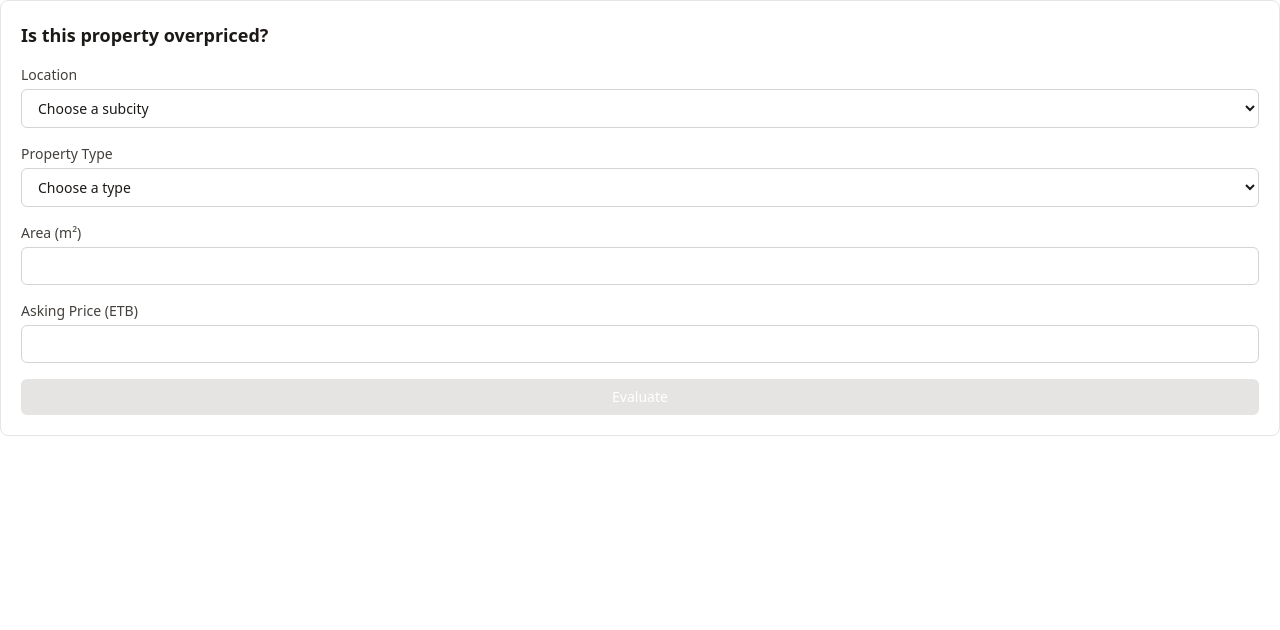
Scenario: OverpricedEvaluatorWidget › renders the UNDERPRICED state
Select "Bole" in the dropdown labelled "Location": (640,108) [21,89,1259,128]
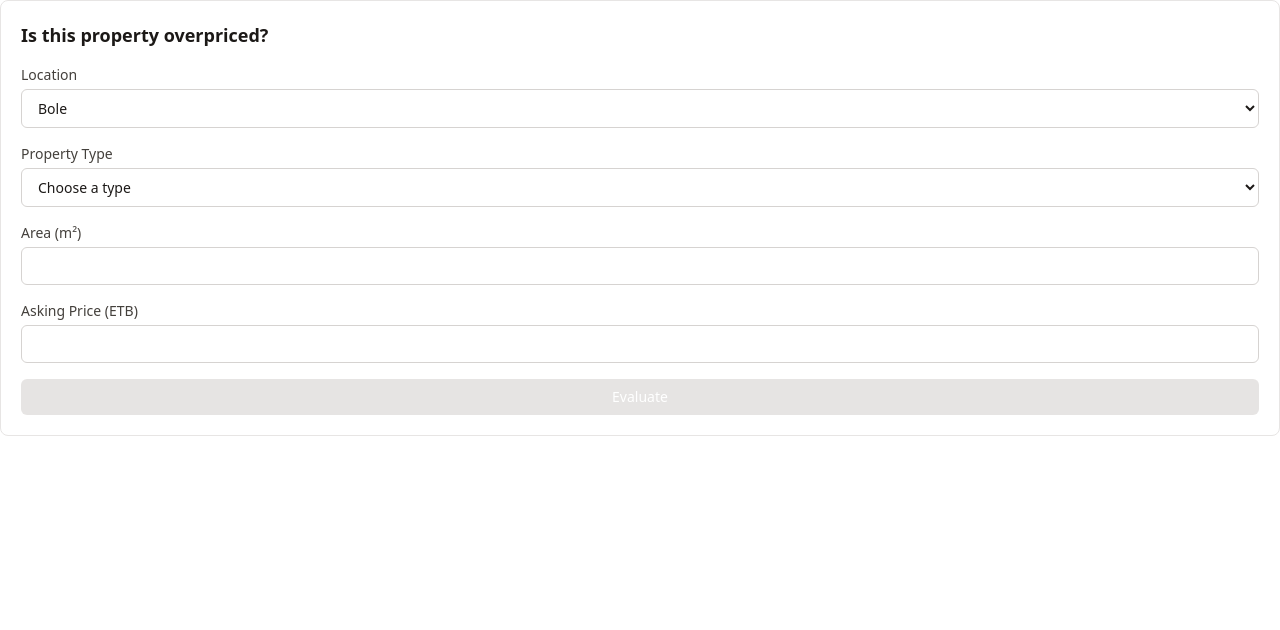
Select "Apartment" in the dropdown labelled "Property Type": (640,188) [21,168,1259,207]
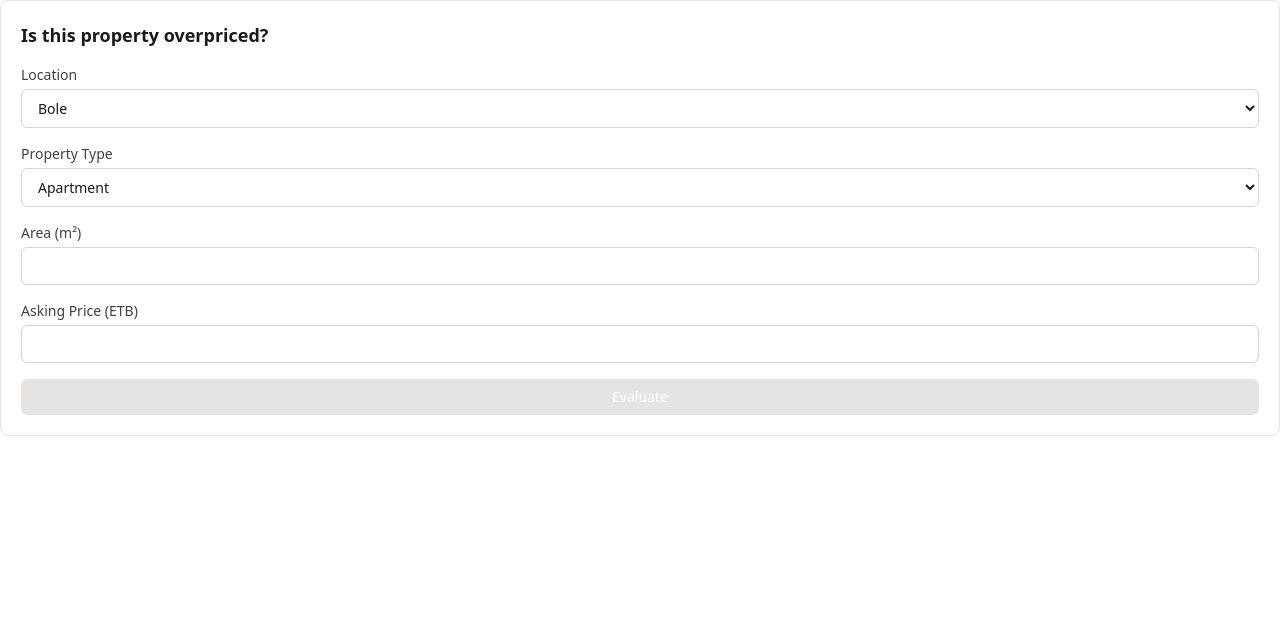
In the number field labelled "Area (m²)": (640,266) [21,247,1259,285], type "100"
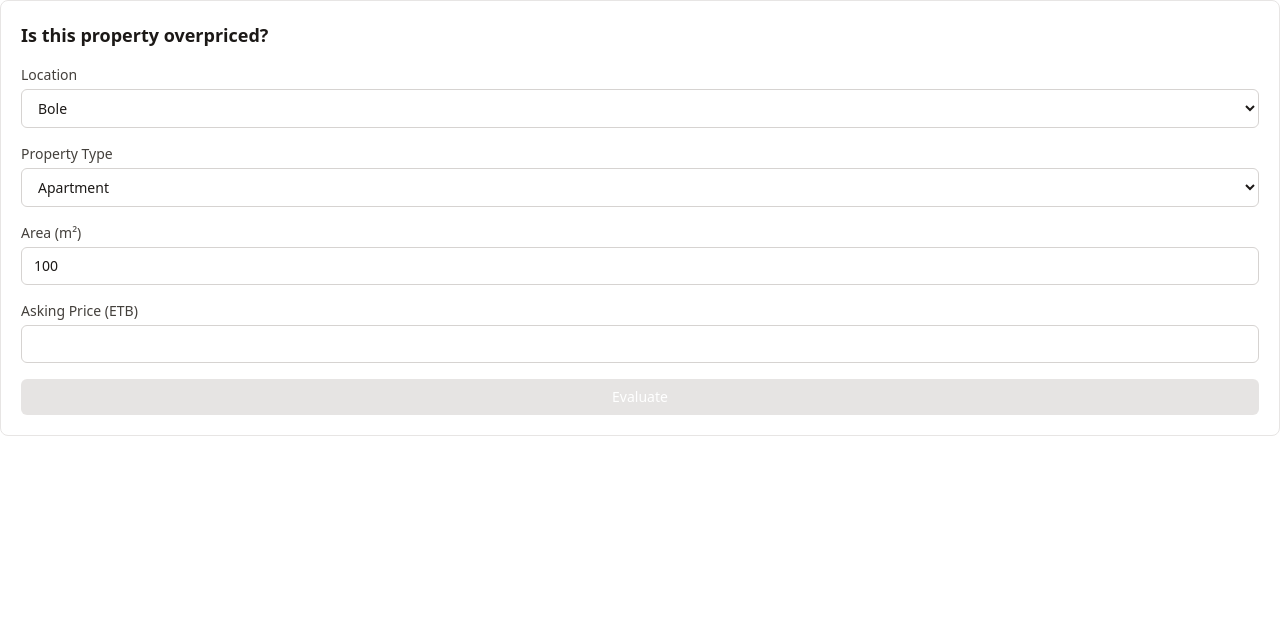
In the number field labelled "Asking Price (ETB)": (640,344) [21,325,1259,363], type "5000000"
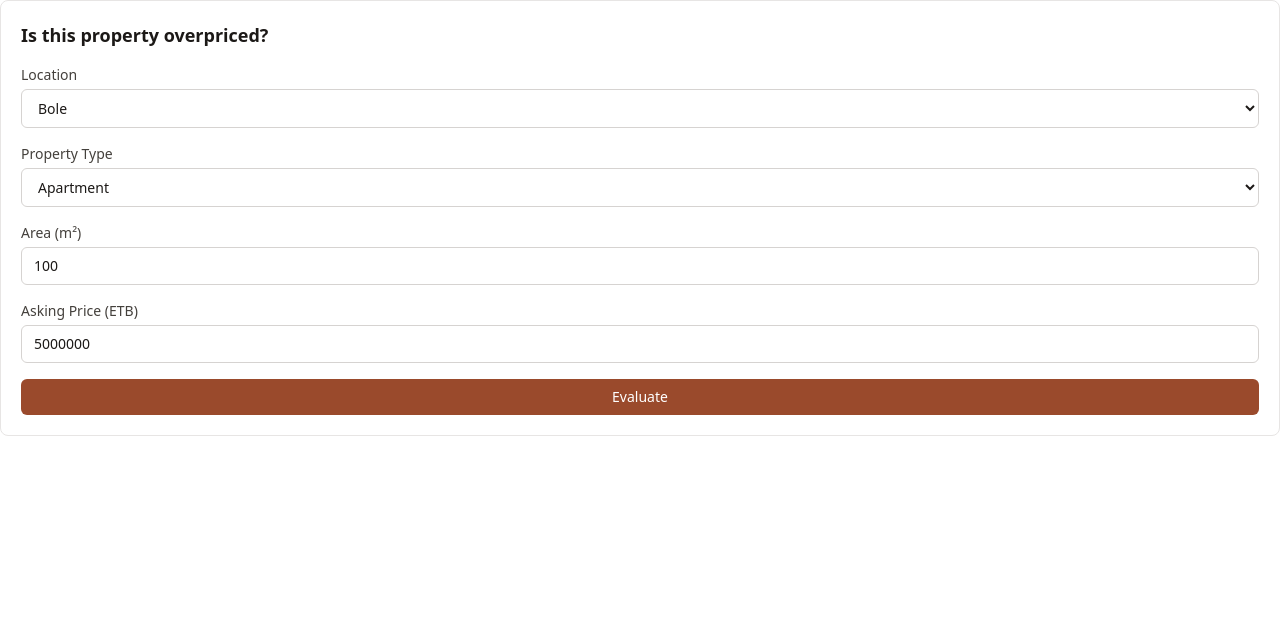
Click the button "Evaluate": (640,397) [21,379,1259,415]
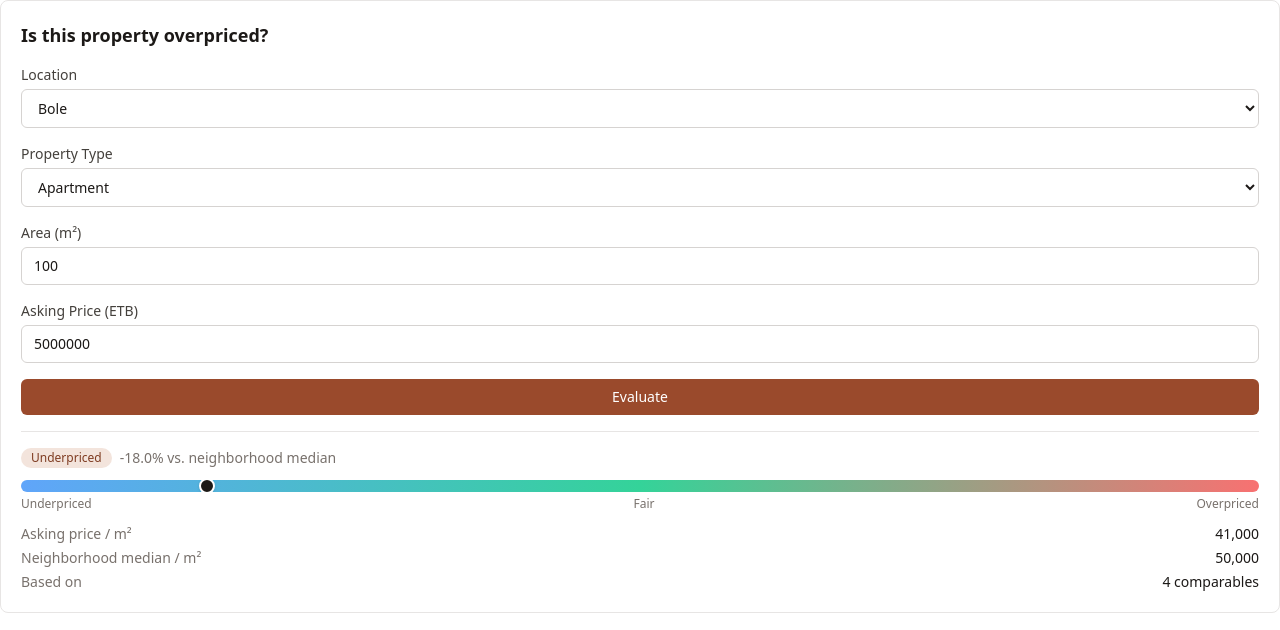
Now the text "Underpriced" next to "-18.0" is shown, box [31,449,102,466]
Now the text "-18.0% vs. neighborhood median" is shown, box [120,448,336,468]
